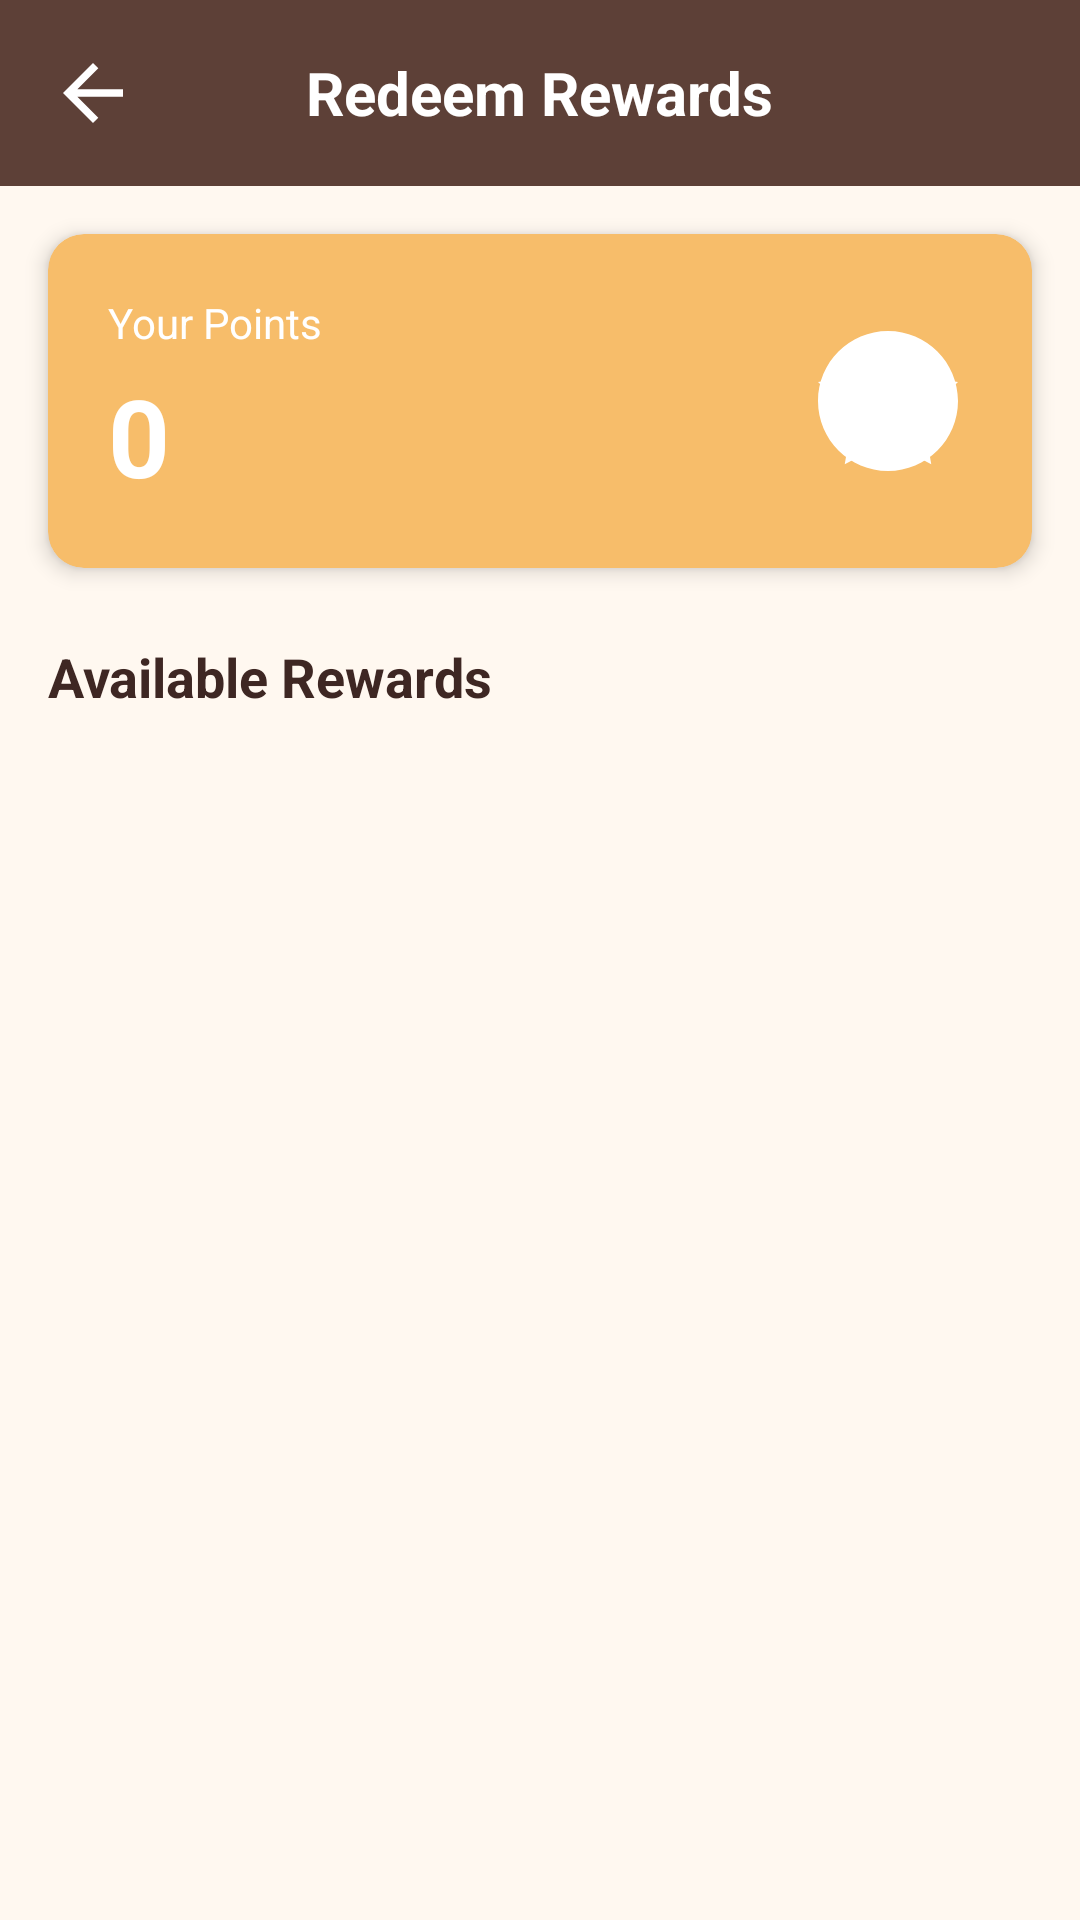

Icon click points for this 1080px x 1920px phone screenshot, format (x=x, y=y):
Back: (x=93, y=93)
